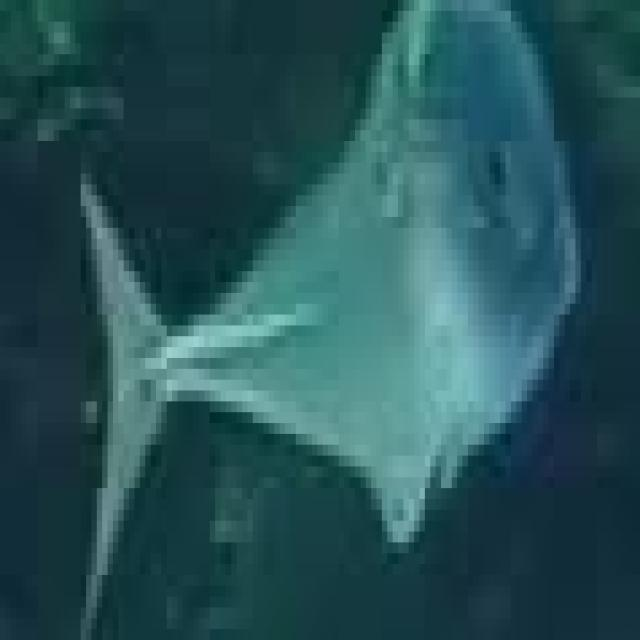fish: (5, 0, 640, 629)
